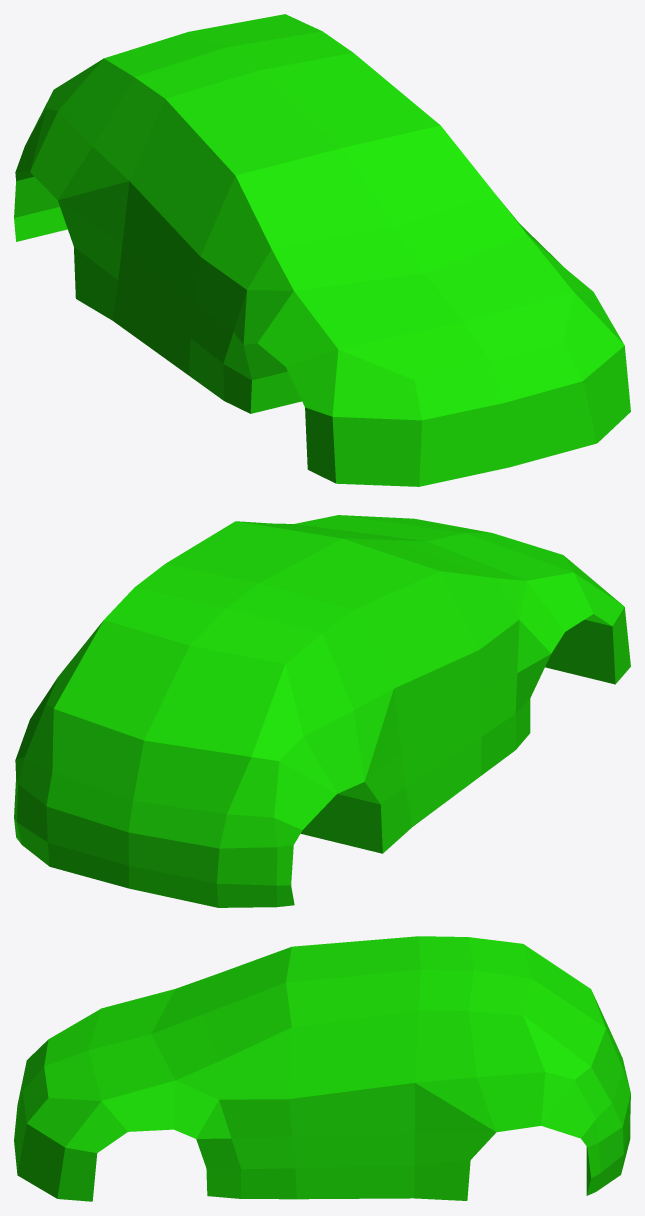
Rendered from Car_Template_Body.fbx.
3 views of the same model, one above another, from view 1: azimuth 30°, elevation 25°; view 2: azimuth 150°, elevation 25°; view 3: azimuth 270°, elevation 25° (orthographic). The views are drawn at different scales.
Visible parts, largest first — view 1: Car_Template_Body; view 2: Car_Template_Body; view 3: Car_Template_Body.
Boxes of the visible parts, <box> form: Car_Template_Body: <box>14,14,630,486</box>; Car_Template_Body: <box>14,515,630,907</box>; Car_Template_Body: <box>14,936,630,1201</box>.
Size of the model in its own units: 279 by 185 by 601.
